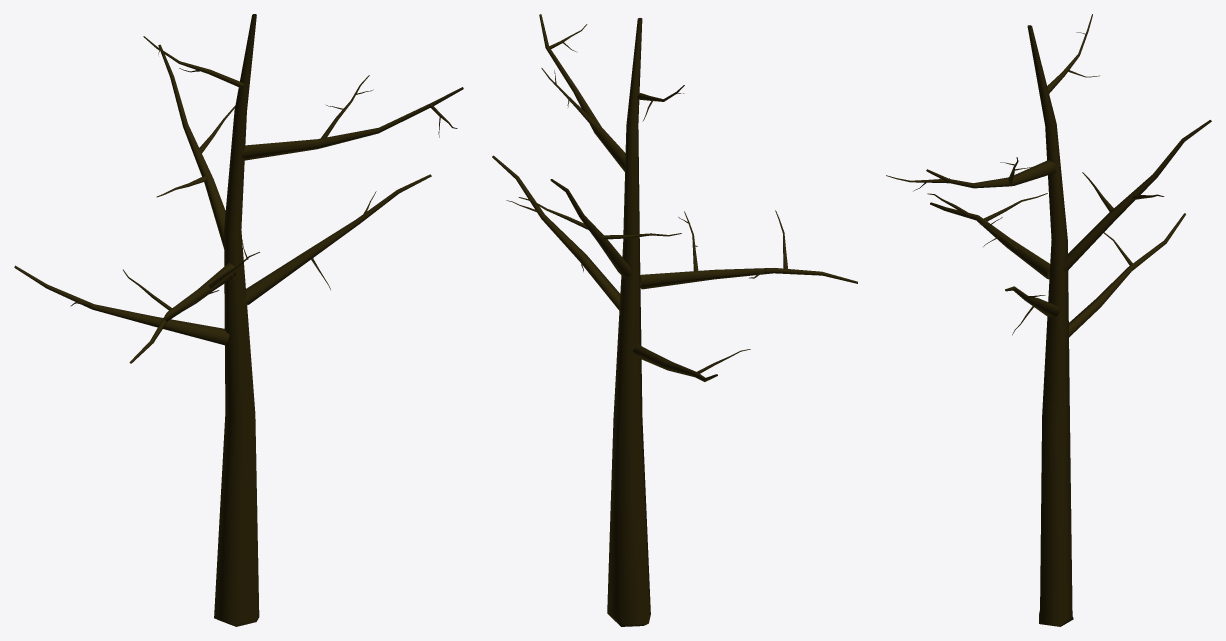
The model's file is Tree.fbx.
3 renders of one model, left to right at view 1: azimuth 30°, elevation 25°; view 2: azimuth 150°, elevation 25°; view 3: azimuth 270°, elevation 25°, orthographic. The views are drawn at different scales.
Visible parts, largest first — view 1: Tree_base, Tree_branch7, Tree_branch21, Tree_branch11, Tree_branch1, Tree_branch5; view 2: Tree_base, Tree_branch5, Tree_branch21, Tree_branch7, Tree_branch1, Tree_branch11; view 3: Tree_base, Tree_branch1, Tree_branch11, Tree_branch7, Tree_branch5, Tree_branch21.
Boxes of the visible parts, bbox=[...] form: Tree_base: bbox=[214, 14, 259, 626]; Tree_branch7: bbox=[241, 87, 463, 160]; Tree_branch21: bbox=[244, 174, 431, 304]; Tree_branch11: bbox=[14, 265, 229, 345]; Tree_branch1: bbox=[158, 44, 225, 247]; Tree_branch5: bbox=[129, 263, 236, 363]; Tree_base: bbox=[607, 18, 650, 626]; Tree_branch5: bbox=[640, 268, 857, 289]; Tree_branch21: bbox=[492, 155, 620, 310]; Tree_branch7: bbox=[539, 14, 625, 171]; Tree_branch1: bbox=[550, 179, 632, 278]; Tree_branch11: bbox=[632, 345, 717, 381]; Tree_base: bbox=[1027, 25, 1073, 626]; Tree_branch1: bbox=[1062, 120, 1211, 270]; Tree_branch11: bbox=[1069, 213, 1185, 337]; Tree_branch7: bbox=[926, 160, 1056, 188]; Tree_branch5: bbox=[930, 202, 1050, 279]; Tree_branch21: bbox=[1005, 286, 1060, 317].
Bounding box in the file's own units: 9.26 × 15.91 × 7.9.
